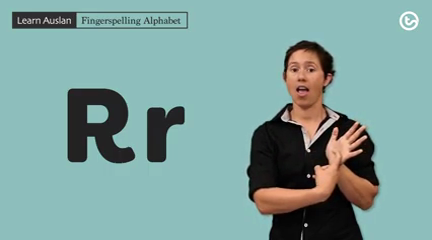R: (309, 117, 374, 204)
